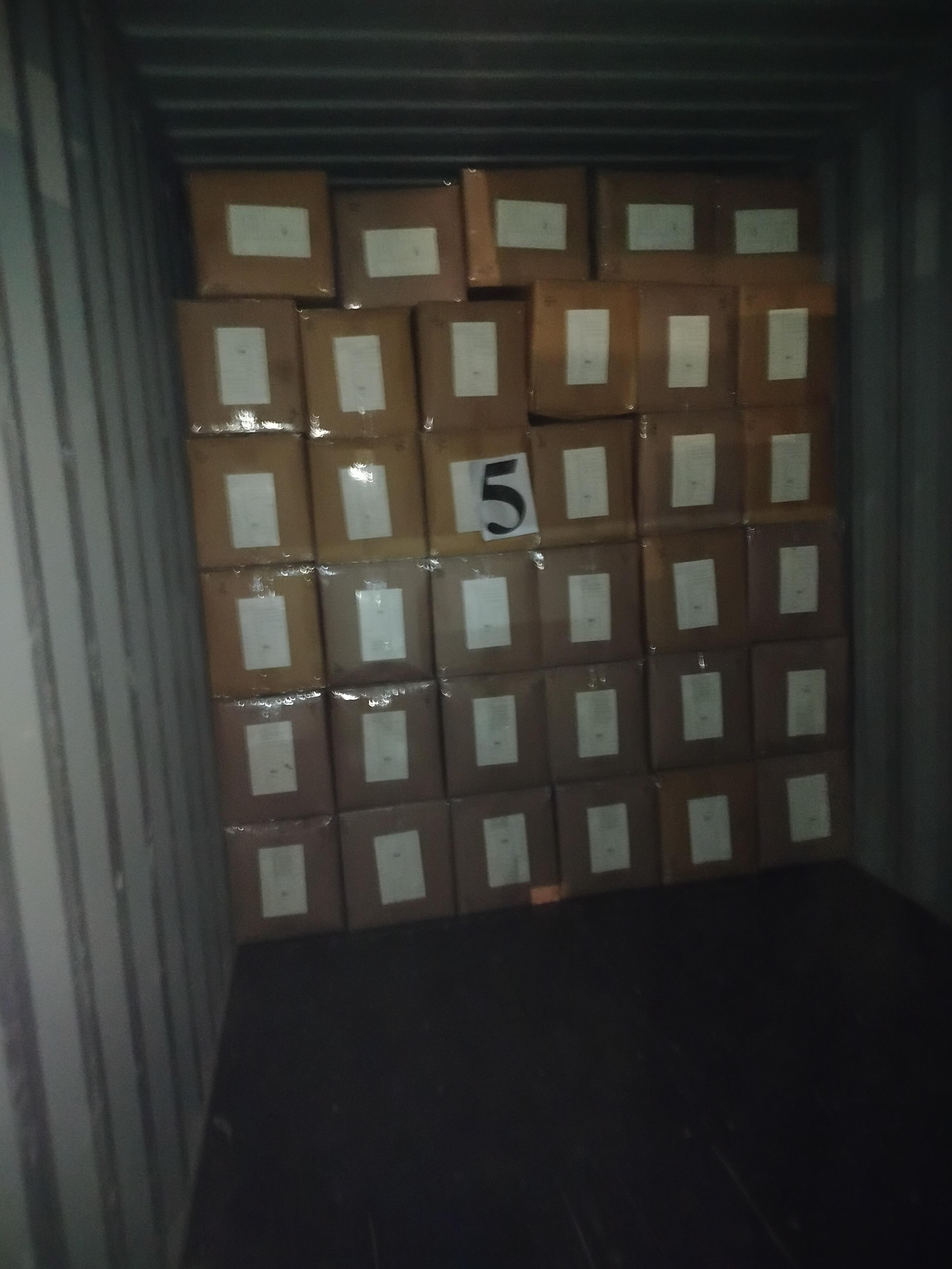carton: (185, 168, 335, 303), (175, 299, 306, 435), (184, 432, 314, 567), (198, 564, 325, 698), (332, 183, 466, 308), (210, 691, 334, 824), (460, 165, 589, 289), (307, 432, 426, 564), (299, 307, 418, 439), (526, 279, 637, 420), (413, 299, 528, 431), (421, 427, 538, 556), (224, 814, 342, 941), (329, 680, 444, 810), (318, 559, 434, 687), (340, 799, 454, 928), (430, 551, 541, 677), (450, 785, 560, 912), (530, 416, 636, 547), (441, 670, 550, 796), (642, 526, 749, 653), (594, 170, 714, 283), (636, 409, 744, 534), (537, 540, 643, 666), (635, 283, 739, 411), (554, 774, 659, 897), (647, 646, 752, 769), (545, 659, 647, 782), (746, 518, 847, 642), (738, 282, 838, 405), (656, 762, 756, 883), (750, 637, 850, 756), (713, 177, 821, 284), (743, 403, 838, 524), (756, 750, 853, 867)
